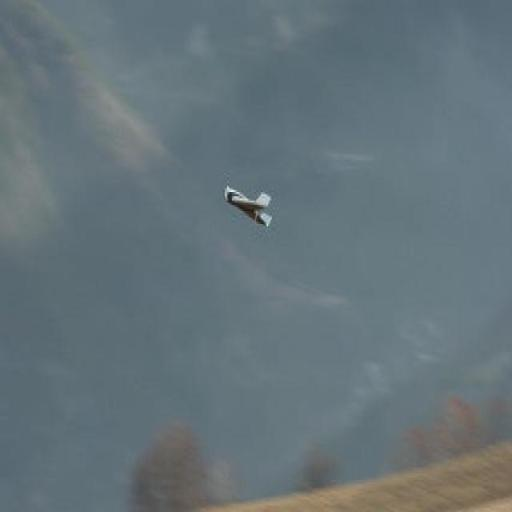uav: (219, 166, 276, 233)
